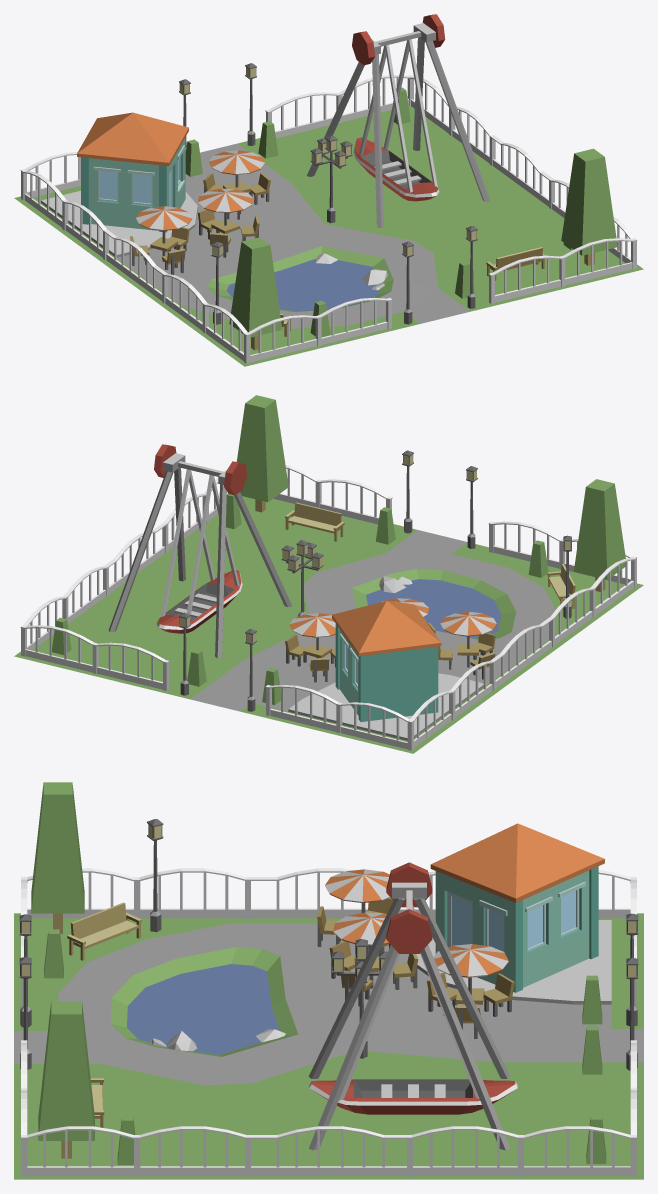
The model's file is park_005.glb.
3 renders of one model, top to bottom at view 1: azimuth 30°, elevation 25°; view 2: azimuth 150°, elevation 25°; view 3: azimuth 270°, elevation 25°, orthographic. The views are drawn at different scales.
Parts seen in each view (by area): view 1: park_005; view 2: park_005; view 3: park_005.
Boxes of the visible parts, x1,y1,x2,y2 form: park_005: [14, 14, 643, 366]; park_005: [14, 395, 643, 753]; park_005: [14, 782, 643, 1179].
Size of the model in its own units: 16 by 7.34 by 16.
Materials: 1 (1 with a texture image).
